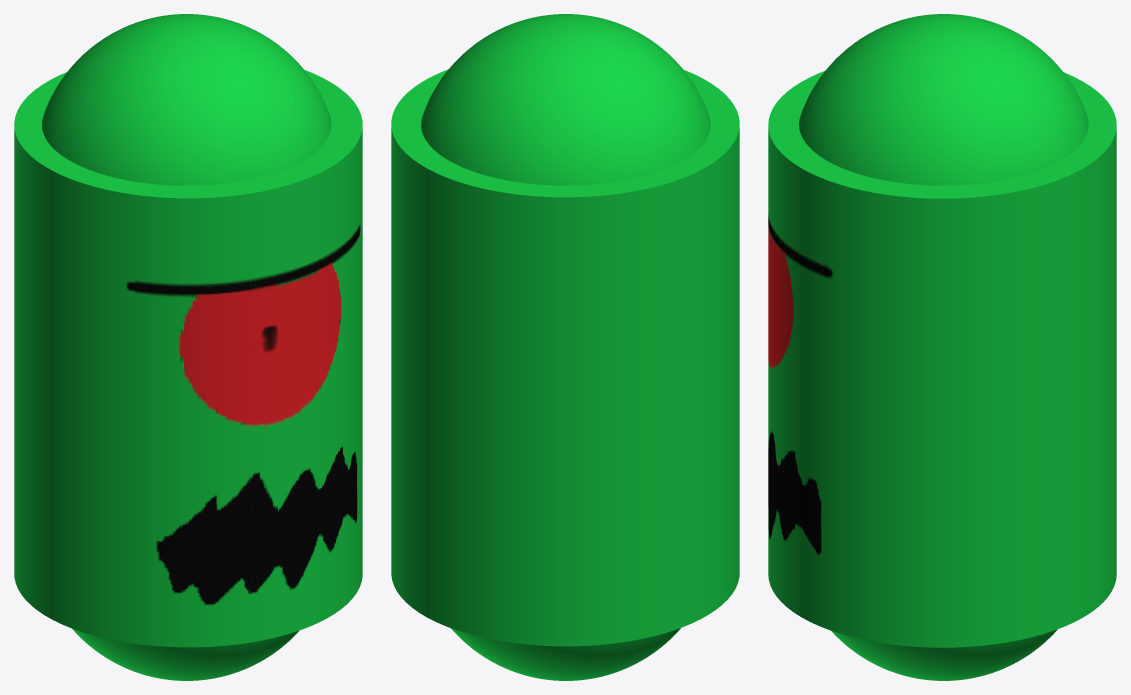
File: Fakedata.fbx
3 renders of one model, left to right at view 1: azimuth 30°, elevation 25°; view 2: azimuth 150°, elevation 25°; view 3: azimuth 270°, elevation 25°, orthographic.
Parts seen in each view (by area): view 1: root (×2); view 2: root (×2); view 3: root (×2).
Part boxes in pixels (x1,y1,x2,y2): root (×2): (14,14,362,680); root (×2): (391,14,739,680); root (×2): (768,14,1116,680).
Size of the model in its own units: 0.1349 by 0.2728 by 0.1349.
2 materials, 2 textured.
